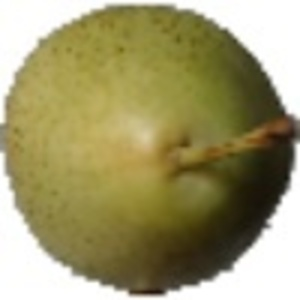pera: (1, 2, 300, 300)
